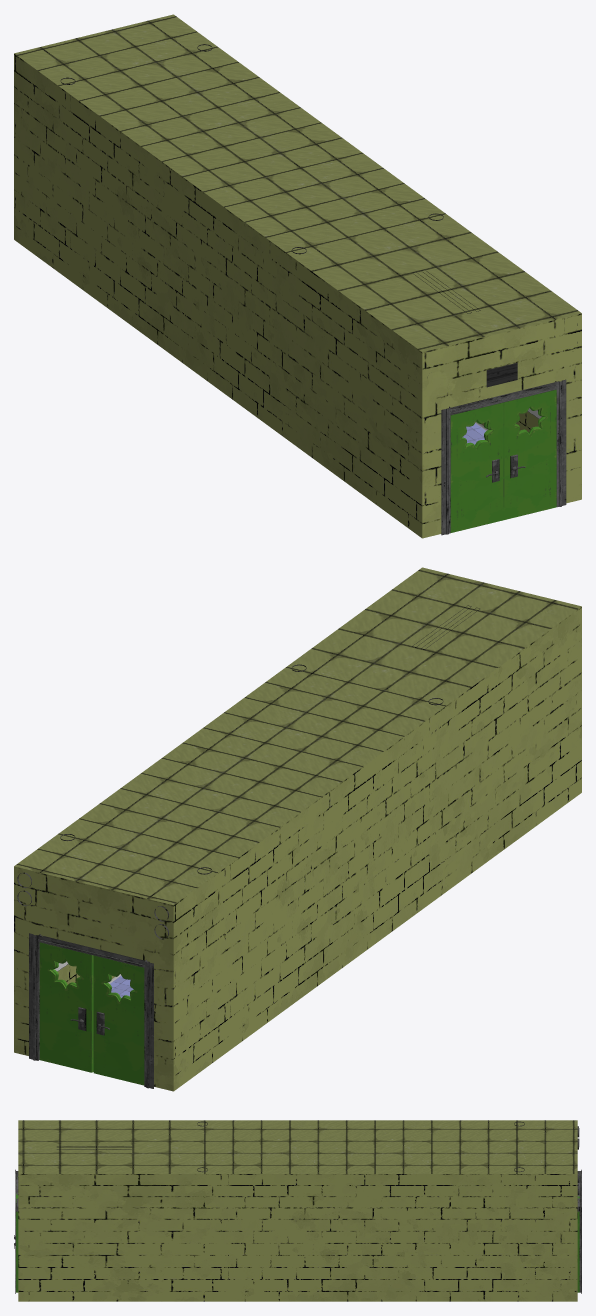
Rendered from Alley_Level13.fbx.
3 views of the same model, one above another, from view 1: azimuth 30°, elevation 25°; view 2: azimuth 150°, elevation 25°; view 3: azimuth 270°, elevation 25° (orthographic). The views are drawn at different scales.
Visible parts, largest first — view 1: Wall, Roof, Right, Left, Frame; view 2: Wall, Roof, Left, Right, Frame; view 3: Wall, Roof, Left (×2), Frame.
Part boxes in pixels (<box>): Wall: <box>14,53,581,538</box>; Roof: <box>14,14,581,352</box>; Right: <box>450,402,503,532</box>; Left: <box>503,389,556,519</box>; Frame: <box>441,379,566,535</box>; Wall: <box>14,606,581,1091</box>; Roof: <box>14,567,581,905</box>; Left: <box>39,942,93,1072</box>; Right: <box>93,955,144,1085</box>; Frame: <box>29,933,153,1088</box>; Wall: <box>18,1174,577,1301</box>; Roof: <box>18,1120,577,1173</box>; Left (×2): <box>14,1194,579,1292</box>; Frame: <box>577,1169,581,1293</box>.
Bounding box in the file's own units: 9.3 × 10.41 × 41.82.
